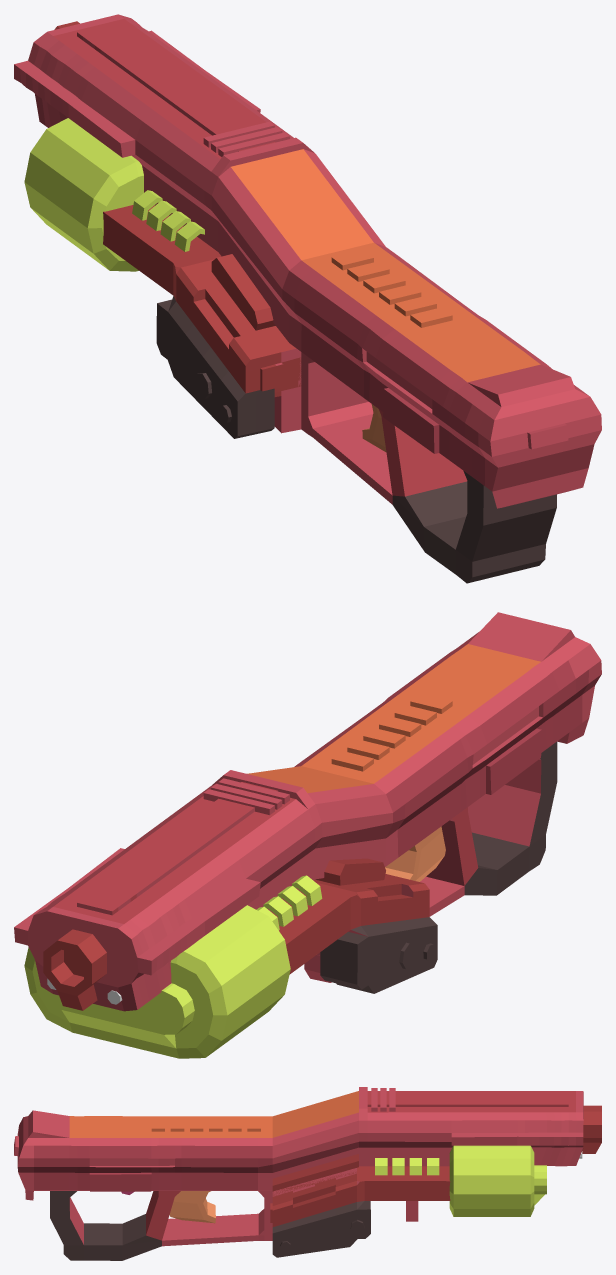
File: shotgun.fbx
The picture shows the model from 3 angles, top to bottom: view 1: azimuth 30°, elevation 25°; view 2: azimuth 150°, elevation 25°; view 3: azimuth 270°, elevation 25°; orthographic projection. The views are drawn at different scales.
Parts seen in each view (by area): view 1: Circle, Circle.007, Cube, Cylinder.018, Circle.010, Cube.001; view 2: Circle, Circle.007, Cylinder.011, Cube, Cylinder.010, Circle.010, Cube.001, Cylinder.018; view 3: Circle, Circle.007, Cylinder.010, Cube, Circle.009, Cylinder.011, Cube.001.
Part boxes in pixels (x1,y1,x2,y2): Circle: [14, 14, 601, 583]; Circle.007: [24, 118, 143, 271]; Cube: [331, 250, 452, 327]; Cylinder.018: [211, 254, 275, 330]; Circle.010: [132, 190, 204, 251]; Cube.001: [203, 121, 289, 156]; Circle: [14, 612, 601, 1011]; Circle.007: [24, 905, 290, 1058]; Cylinder.011: [43, 929, 106, 1010]; Cube: [331, 693, 452, 771]; Cylinder.010: [385, 826, 445, 881]; Circle.010: [256, 875, 322, 930]; Cube.001: [203, 778, 289, 815]; Cylinder.018: [315, 858, 385, 885]; Circle: [14, 1087, 583, 1260]; Circle.007: [449, 1145, 546, 1216]; Cylinder.010: [169, 1191, 215, 1223]; Cube: [151, 1119, 260, 1131]; Circle.009: [375, 1158, 439, 1175]; Cylinder.011: [582, 1105, 601, 1153]; Cube.001: [371, 1088, 395, 1111].
Bounding box in the file's own units: 908 × 1040 × 3639.
